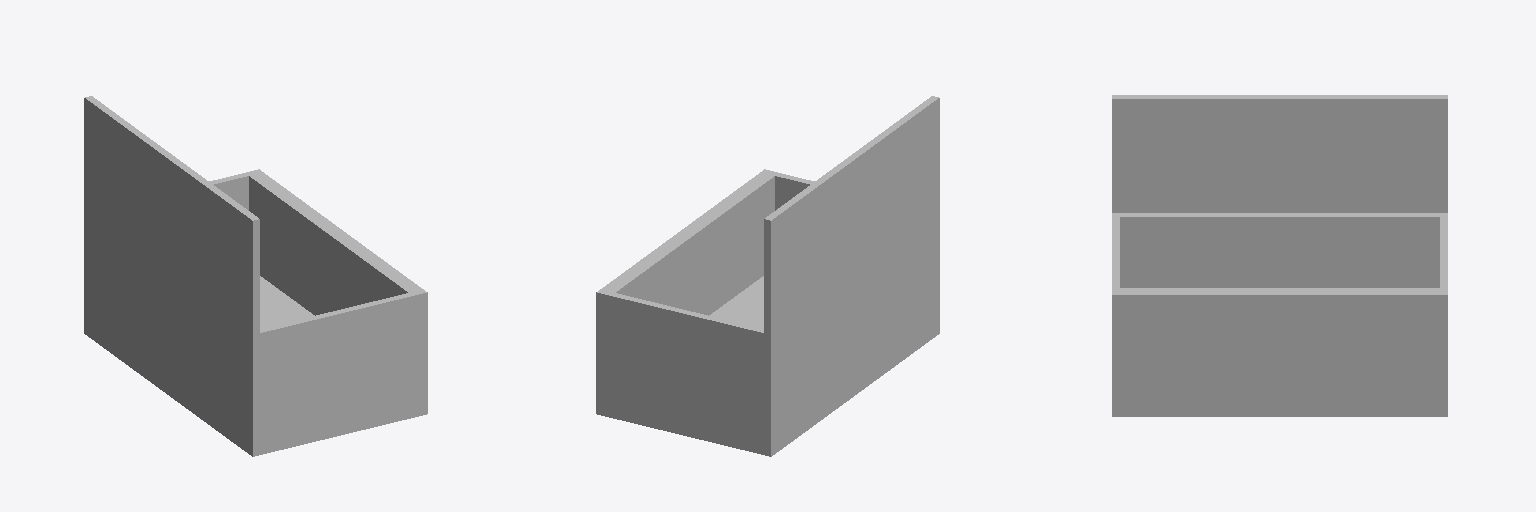
The model's file is chest.obj.
3 renders of one model, left to right at view 1: azimuth 30°, elevation 25°; view 2: azimuth 150°, elevation 25°; view 3: azimuth 270°, elevation 25°, orthographic.
Bounding box in the file's own units: 24 × 31 × 40.